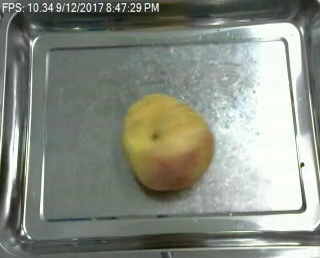Peach: (121, 93, 214, 191)
